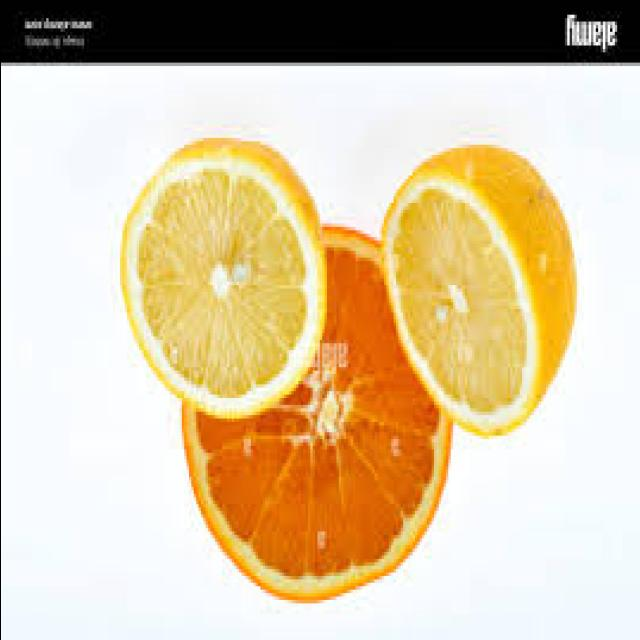orange: (374, 146, 572, 464)
